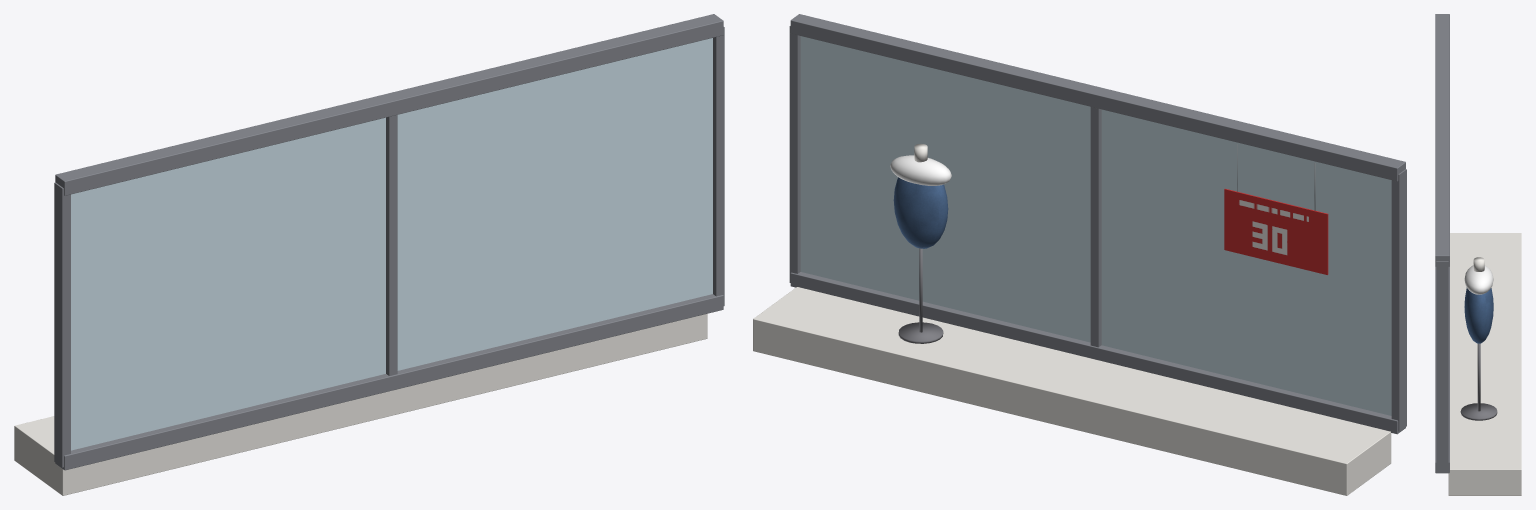
Rendered from tienda.vitrina.fbx.
The picture shows the model from 3 angles, left to right: view 1: azimuth 30°, elevation 25°; view 2: azimuth 150°, elevation 25°; view 3: azimuth 270°, elevation 25°; orthographic projection. The views are drawn at different scales.
Visible parts, largest first — view 1: Vidrio de la vitrina, Tarima, Marco superior, Marco inferior, Montante.002, Montante, Montante.001; view 2: Vidrio de la vitrina, Tarima, Marco superior, Marco inferior, Cartel de oferta, Montante.002, Torso, Montante, Montante.001, Hombros, Base; view 3: Tarima, Marco superior, Montante, Torso, Marco inferior, Hombros, Base, Pie, Cuello.
Part boxes in pixels (x1,y1,x2,y2): Vidrio de la vitrina: [71, 38, 712, 450]; Tarima: [14, 313, 707, 495]; Marco superior: [55, 14, 723, 195]; Marco inferior: [55, 294, 723, 470]; Montante.002: [54, 182, 70, 467]; Montante: [713, 27, 724, 305]; Montante.001: [386, 115, 397, 375]; Vidrio de la vitrina: [800, 36, 1391, 415]; Tarima: [753, 287, 1391, 495]; Marco superior: [790, 14, 1405, 181]; Marco inferior: [790, 272, 1405, 434]; Cartel de oferta: [1224, 188, 1328, 274]; Montante.002: [1391, 169, 1406, 431]; Torso: [893, 177, 948, 248]; Montante: [789, 26, 800, 282]; Montante.001: [1090, 107, 1101, 347]; Hombros: [890, 155, 951, 185]; Base: [898, 322, 943, 343]; Tarima: [1448, 233, 1521, 495]; Marco superior: [1435, 14, 1449, 266]; Montante: [1436, 261, 1448, 471]; Torso: [1464, 287, 1493, 343]; Marco inferior: [1435, 266, 1449, 473]; Hombros: [1464, 265, 1493, 294]; Base: [1460, 403, 1497, 420]; Pie: [1477, 343, 1480, 411]; Cuello: [1473, 257, 1484, 271].
Bounding box in the file's own units: 4.72 × 2.2 × 0.71.
10 materials, 2 textured.
